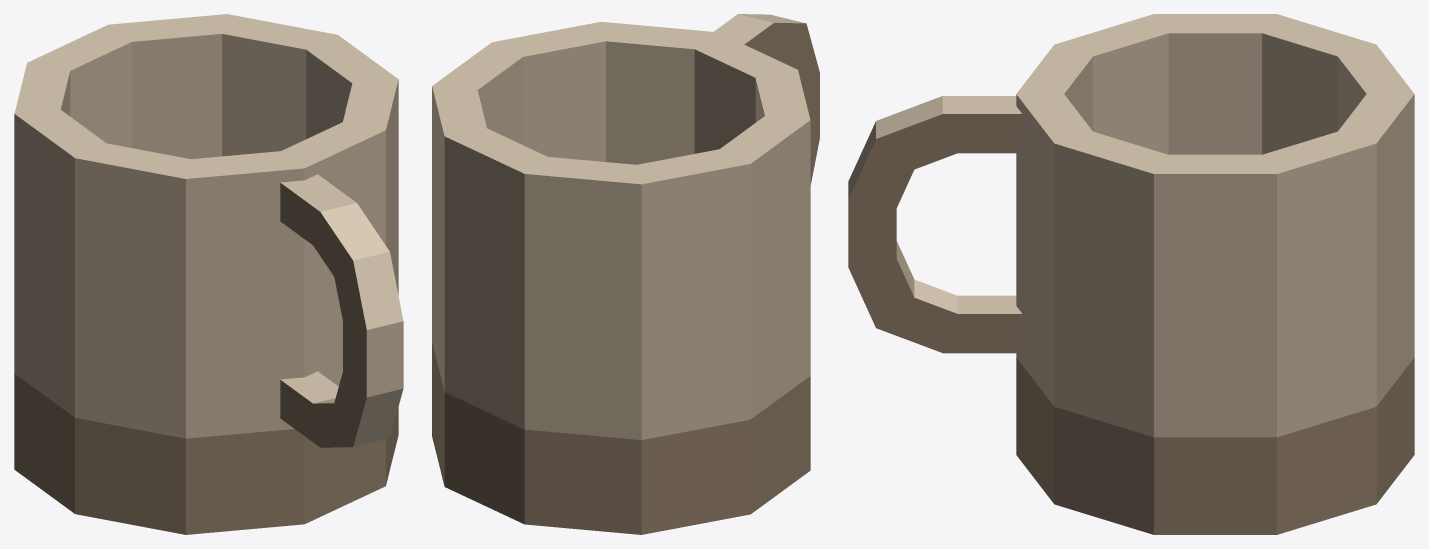
Rendered from CR_Mug.fbx.
3 views of the same model, side by side, from view 1: azimuth 30°, elevation 25°; view 2: azimuth 150°, elevation 25°; view 3: azimuth 270°, elevation 25° (orthographic). The views are drawn at different scales.
Visible parts, largest first — view 1: CR_Mug; view 2: CR_Mug; view 3: CR_Mug.
Part boxes in pixels (x1=…): CR_Mug: x1=14, y1=14, x2=403, y2=534; CR_Mug: x1=432, y1=14, x2=819, y2=534; CR_Mug: x1=848, y1=14, x2=1414, y2=534.
Bounding box in the file's own units: 0.1818 × 0.1911 × 0.2717.
